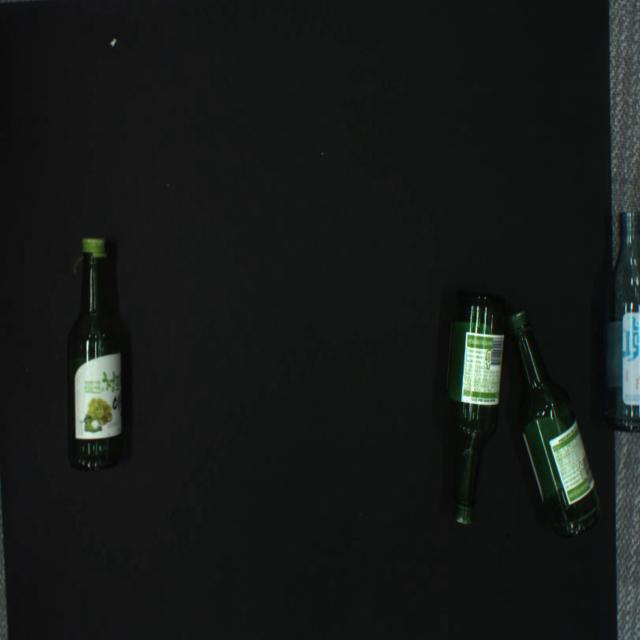soju-bottle: (506, 309, 601, 540), (445, 293, 506, 525), (67, 237, 122, 472), (603, 209, 640, 433)
